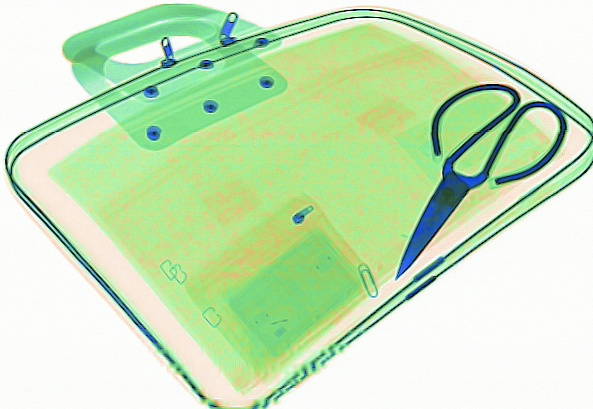scissors: (393, 83, 563, 282)
